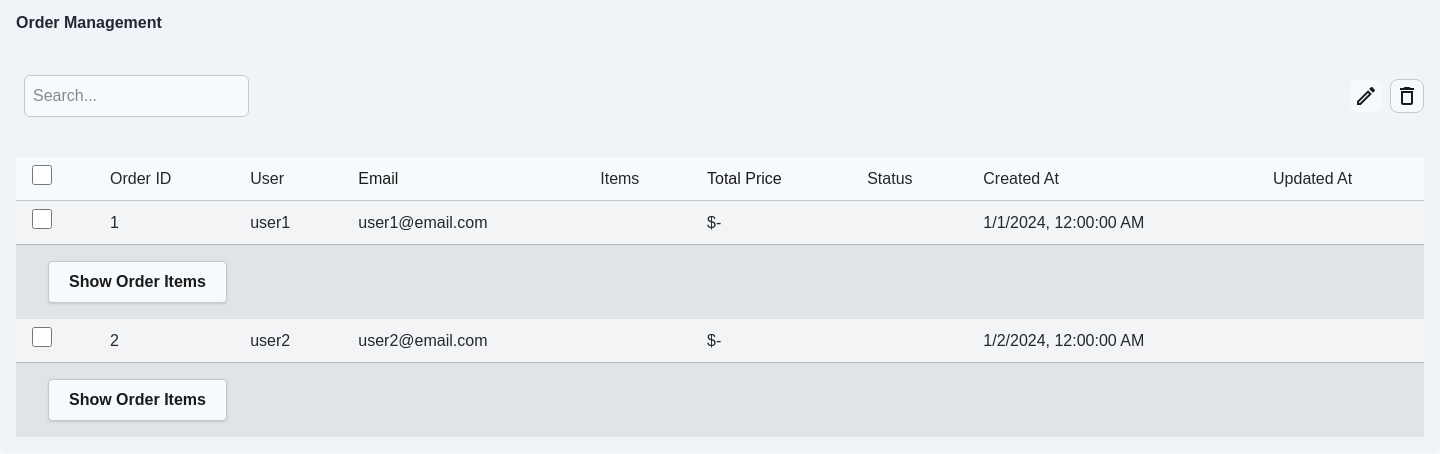
Test: OrderTable › shows alert if trying to delete with nothing selected
The image size is (1440, 454).
Click the button titled "delete selected order".
click(1407, 96)  # box [1390,79,1424,113]
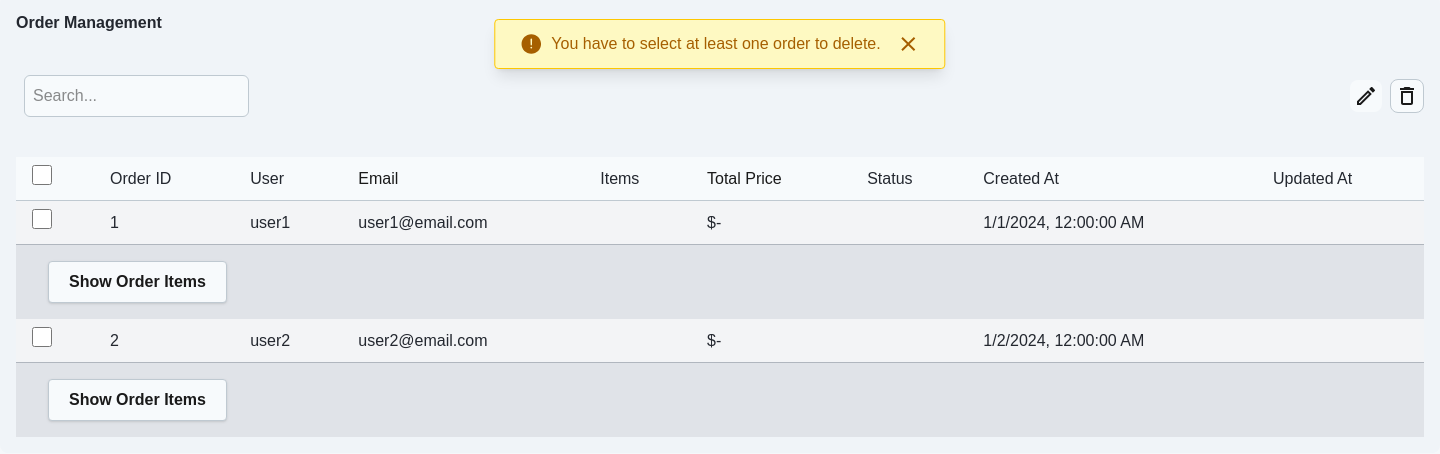
Now the text "You have to select at least one order to delete." is shown, box [551,32,881,56]
